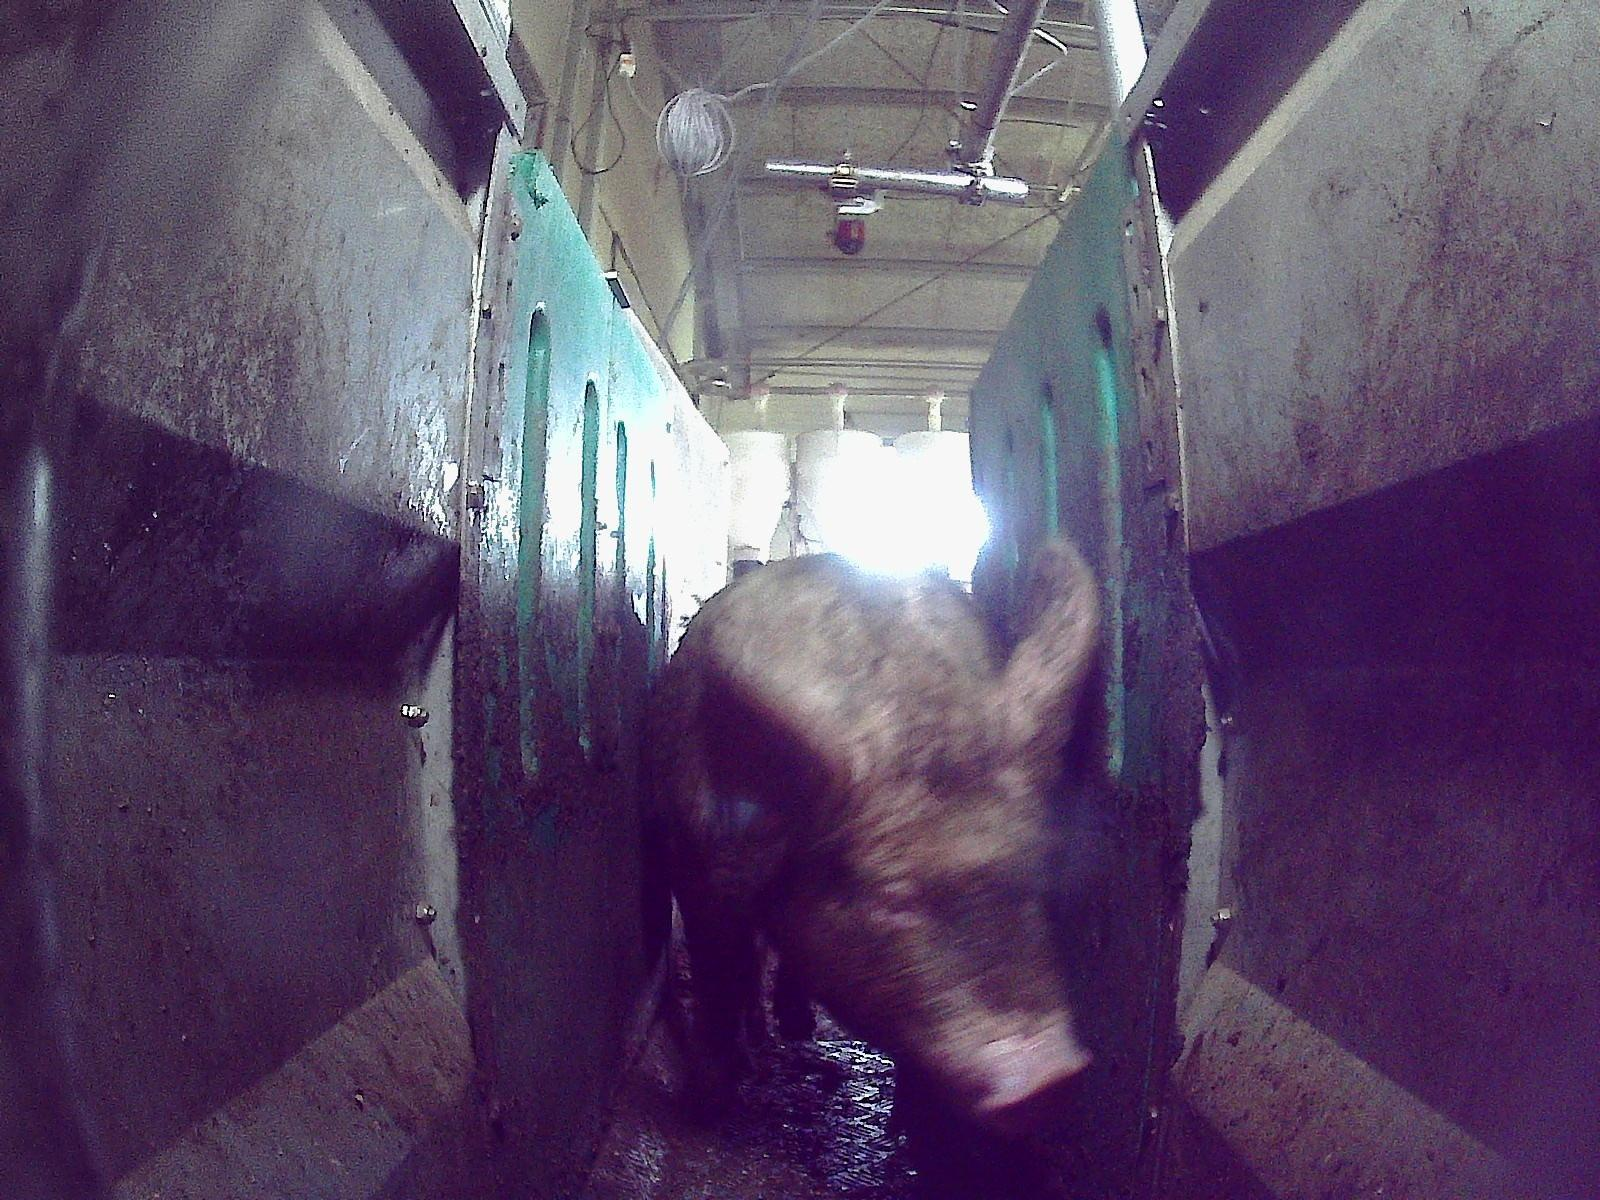Face: (765, 680, 1088, 1134)
